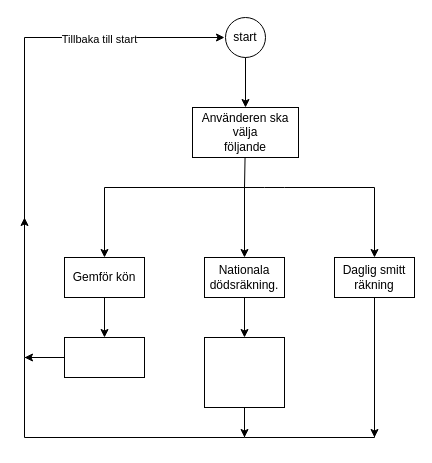
The diagram is 432 pixels wide and 463 high, and some of its shapes have lost their labels. The shapes that lost their labels are listed below. From the top down, each one's centre as x and y in pixels, then its label:
pixel 104 357: Dela upp i ålder grupp
pixel 244 372: Gemför mellan kommuner och beräkna medianen.
